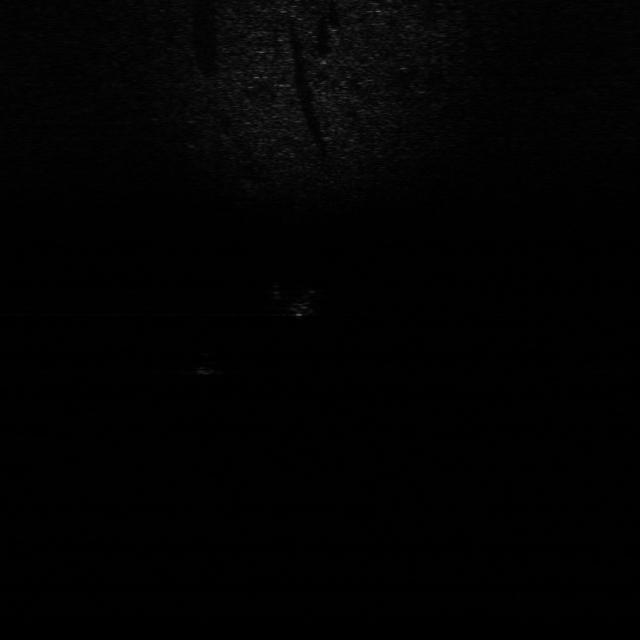ball: (190, 351, 220, 379)
human body: (263, 282, 326, 323)
